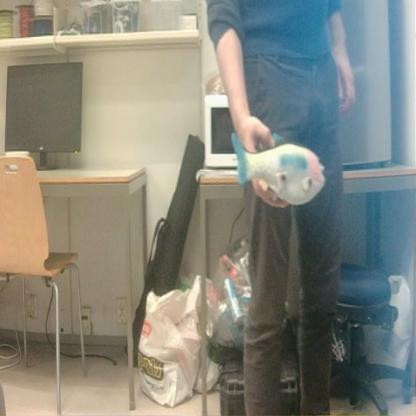rubberfish: (227, 126, 329, 214)
